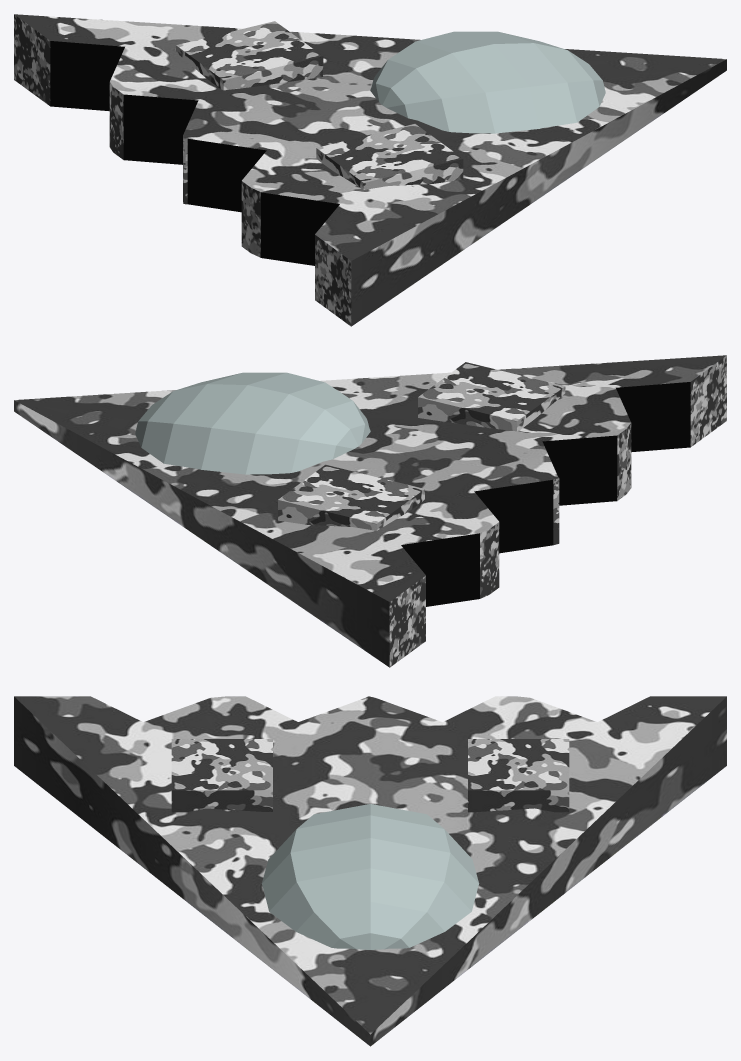
The model's file is HumanStealthV2.fbx.
The picture shows the model from 3 angles, top to bottom: view 1: azimuth 30°, elevation 25°; view 2: azimuth 150°, elevation 25°; view 3: azimuth 270°, elevation 25°; orthographic projection. The views are drawn at different scales.
Visible parts, largest first — view 1: Body, Cockpit, Engines; view 2: Body, Cockpit, Engines; view 3: Body, Cockpit.
Boxes of the visible parts, x1,y1,x2,y2 form: Body: (14,14,726,326); Cockpit: (370,31,605,133); Engines: (50,41,339,265); Body: (14,355,726,667); Cockpit: (135,372,370,474); Engines: (401,382,690,606); Body: (14,696,726,1046); Cockpit: (261,804,479,949).
Size of the model in its own units: 10.93 by 1.62 by 11.73.
Materials: 3 (1 with a texture image).
